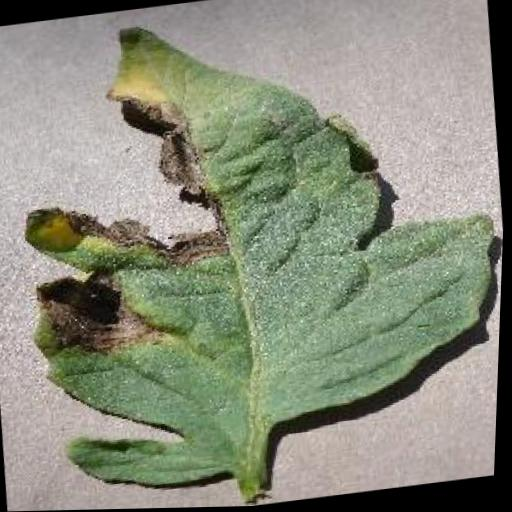Early Blight: (0, 0, 512, 504)
